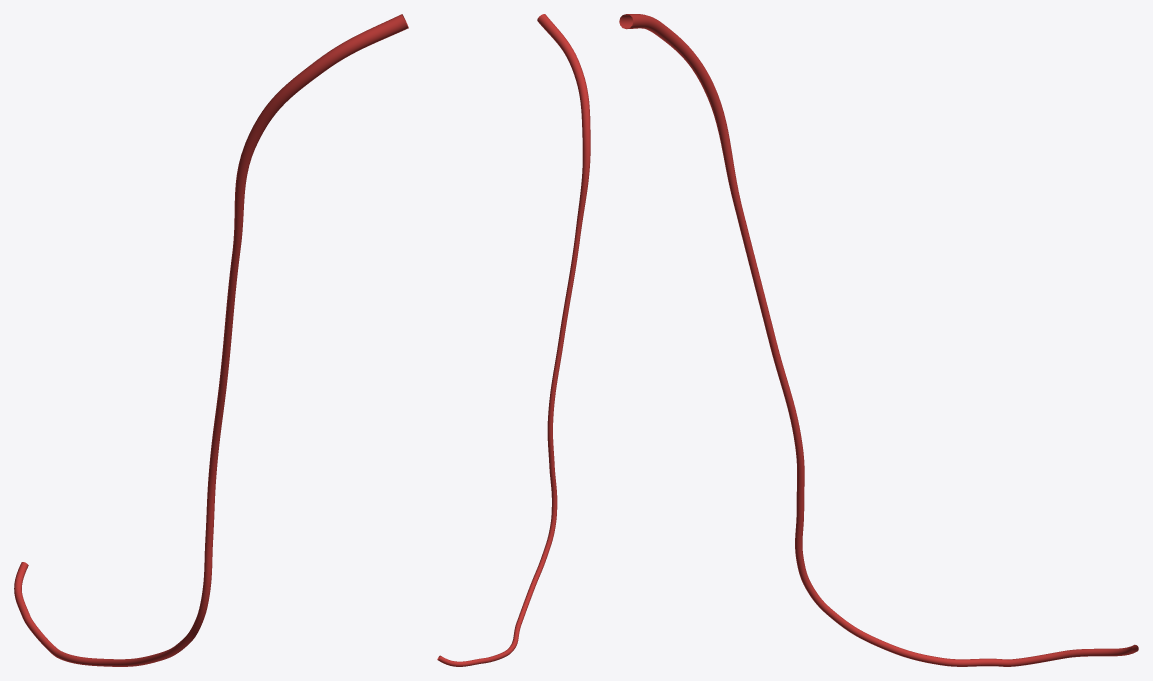
3 views of the same model, side by side, from view 1: azimuth 30°, elevation 25°; view 2: azimuth 150°, elevation 25°; view 3: azimuth 270°, elevation 25° (orthographic). The views are drawn at different scales.
Visible parts, largest first — view 1: 左侧蝶腭动脉鼻中隔后支; view 2: 左侧蝶腭动脉鼻中隔后支; view 3: 左侧蝶腭动脉鼻中隔后支.
Part boxes in pixels (x1,y1,x2,y2): 左侧蝶腭动脉鼻中隔后支: [14, 14, 408, 666]; 左侧蝶腭动脉鼻中隔后支: [437, 14, 590, 666]; 左侧蝶腭动脉鼻中隔后支: [619, 14, 1138, 666].
Bounding box in the file's own units: 0.0135 × 0.0619 × 0.0404.
